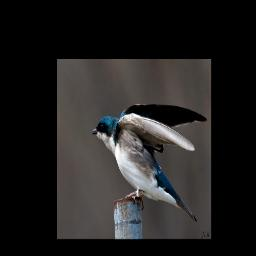Swallow: (90, 101, 208, 224)
